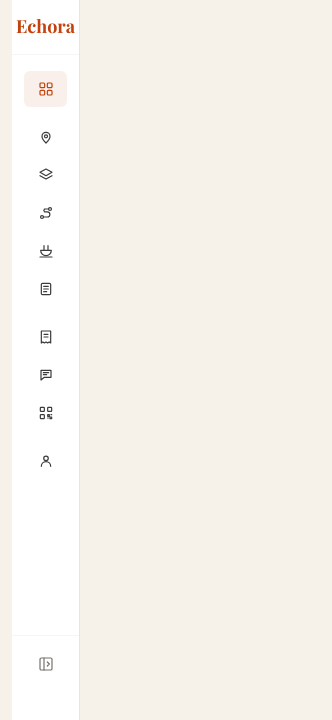
Test case: Sidebar quản trị: xổ xuống, thu gọn và bàn phím › thu gọn: mục con hiện trong popover khi hover vào mục cha
This screenshot has width=332, height=720.
Expected: the link "danh sách điểm" is not shown
Hover over the 2nd list item titled "Điểm thuyết minh" at point(46, 137), box 24,119 -> 67,155
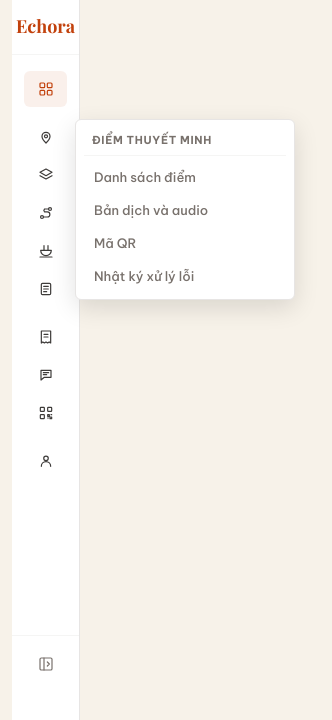
Expected: the link "Danh sách điểm" is shown, 94,169 -> 196,185
Move the pointer off the list item titled "Điểm thuyết minh", box 24,119 -> 67,155
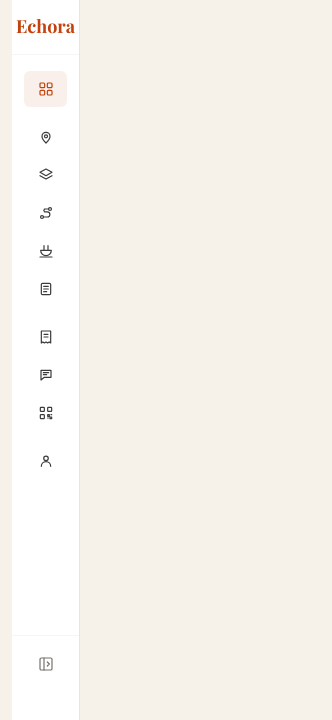
Expected: the link "Danh sách điểm" is gone
